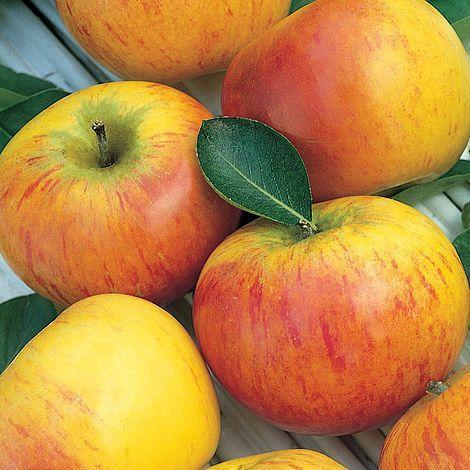apple: (196, 188, 467, 433), (221, 6, 462, 226), (1, 85, 231, 308), (1, 298, 231, 469)
